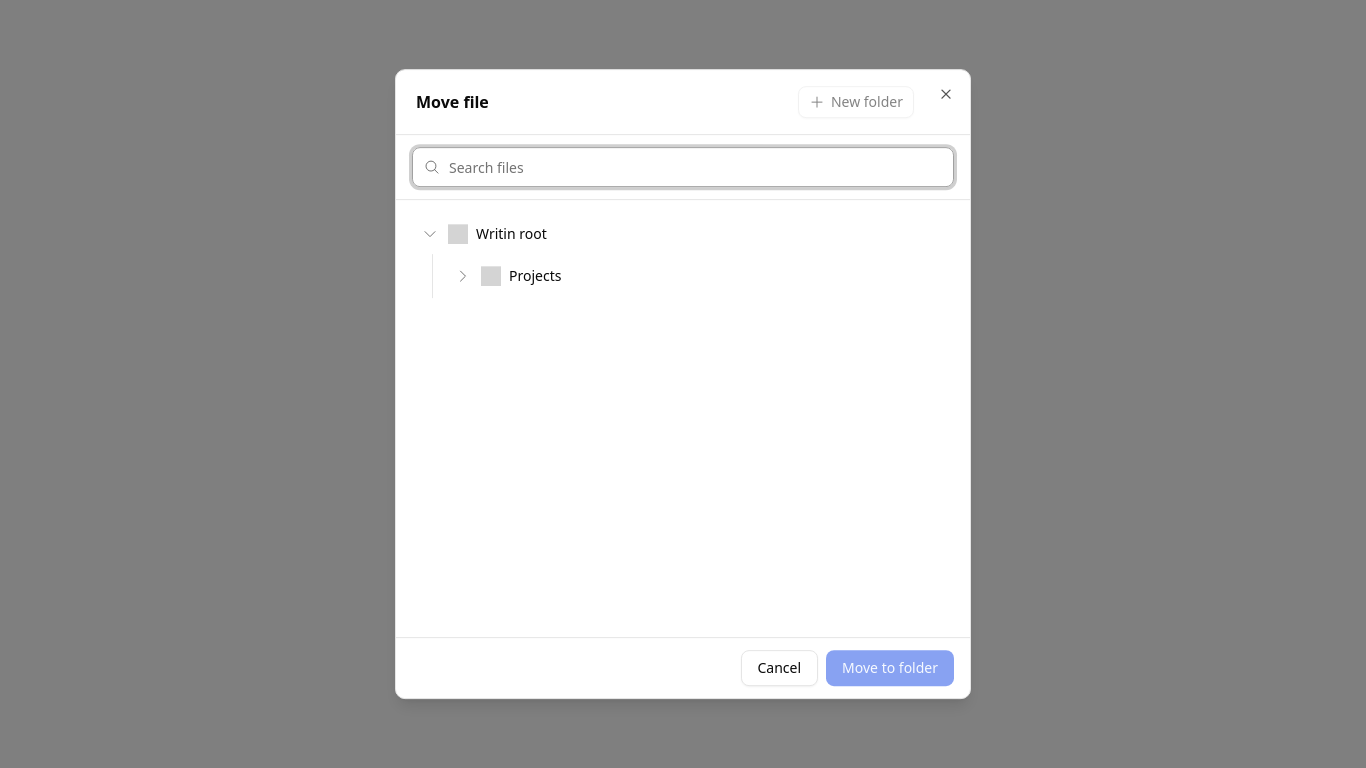
Scenario: MoveItemDialog › creates the pending folder on blur under its original parent without changing a newer selection
Click the list item "Projects": click(535, 276) [449,262,561,290]
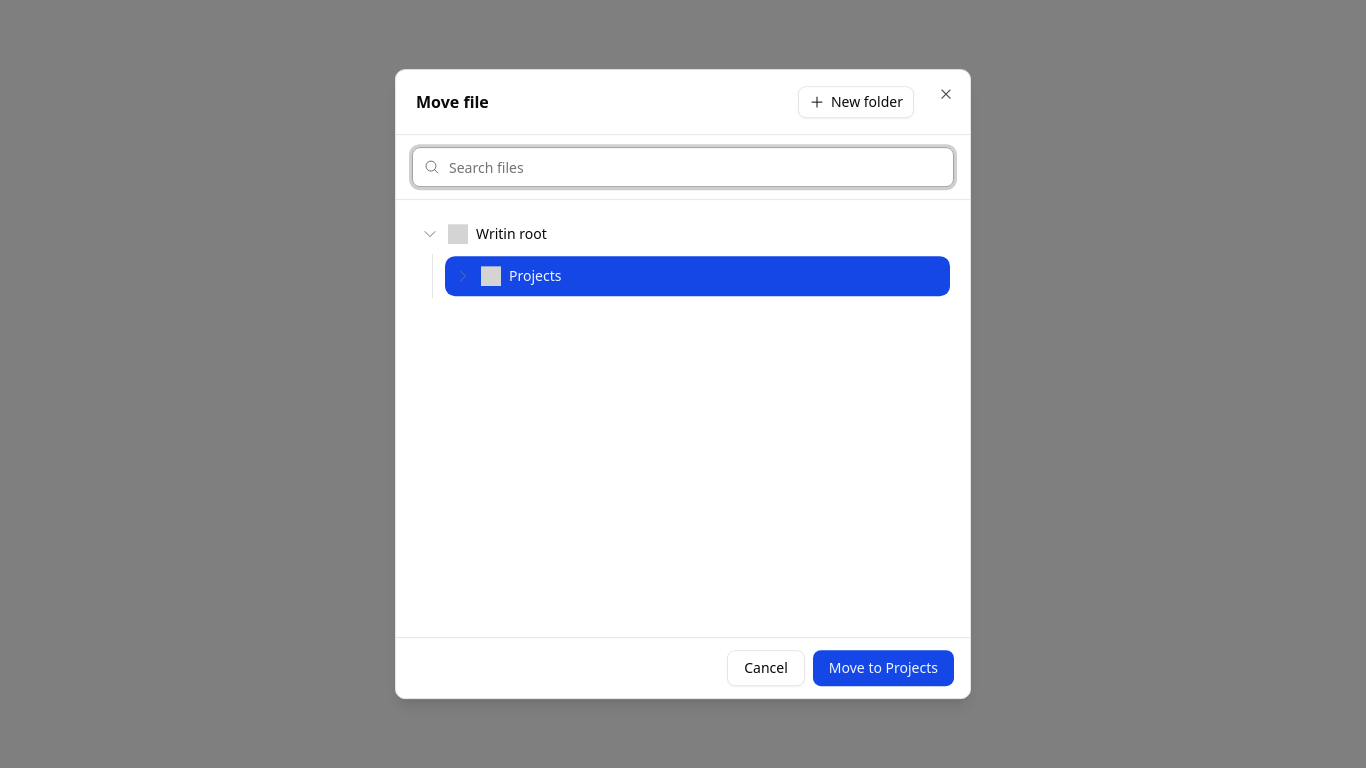
Click the button with aria-label "Create new folder": click(856, 102) [798,86,914,118]
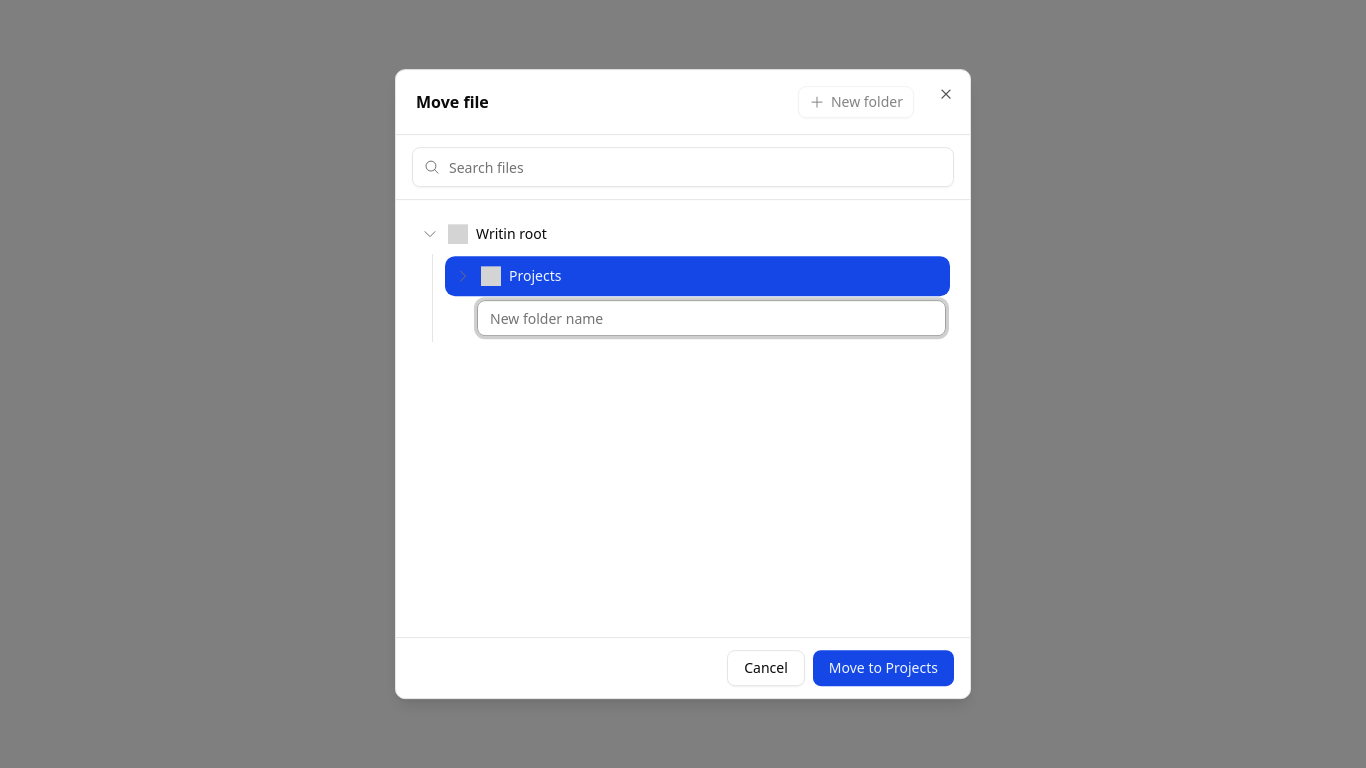
In the field labelled "New folder name": (712, 318) [477,300,946,336], type "Design"
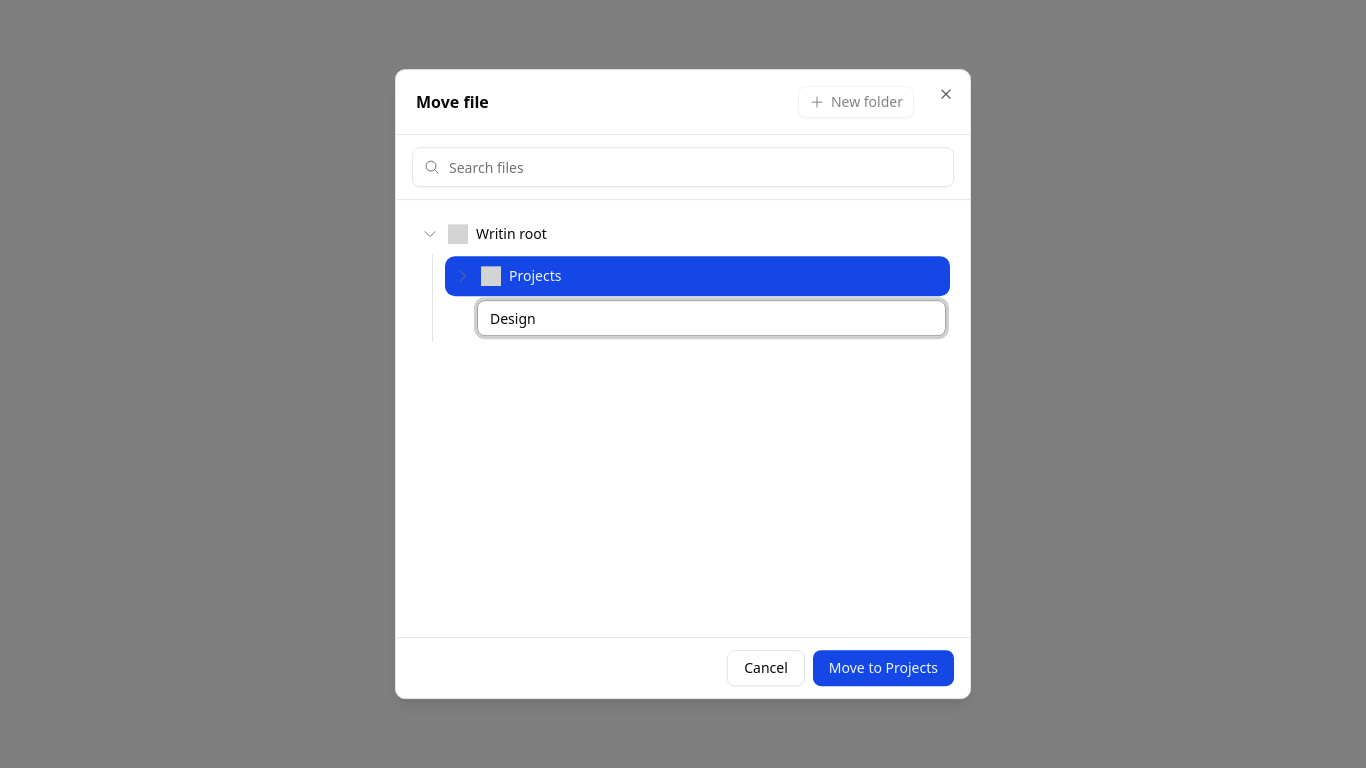
Click the button named "Expand Projects": click(463, 276) [449,262,477,290]
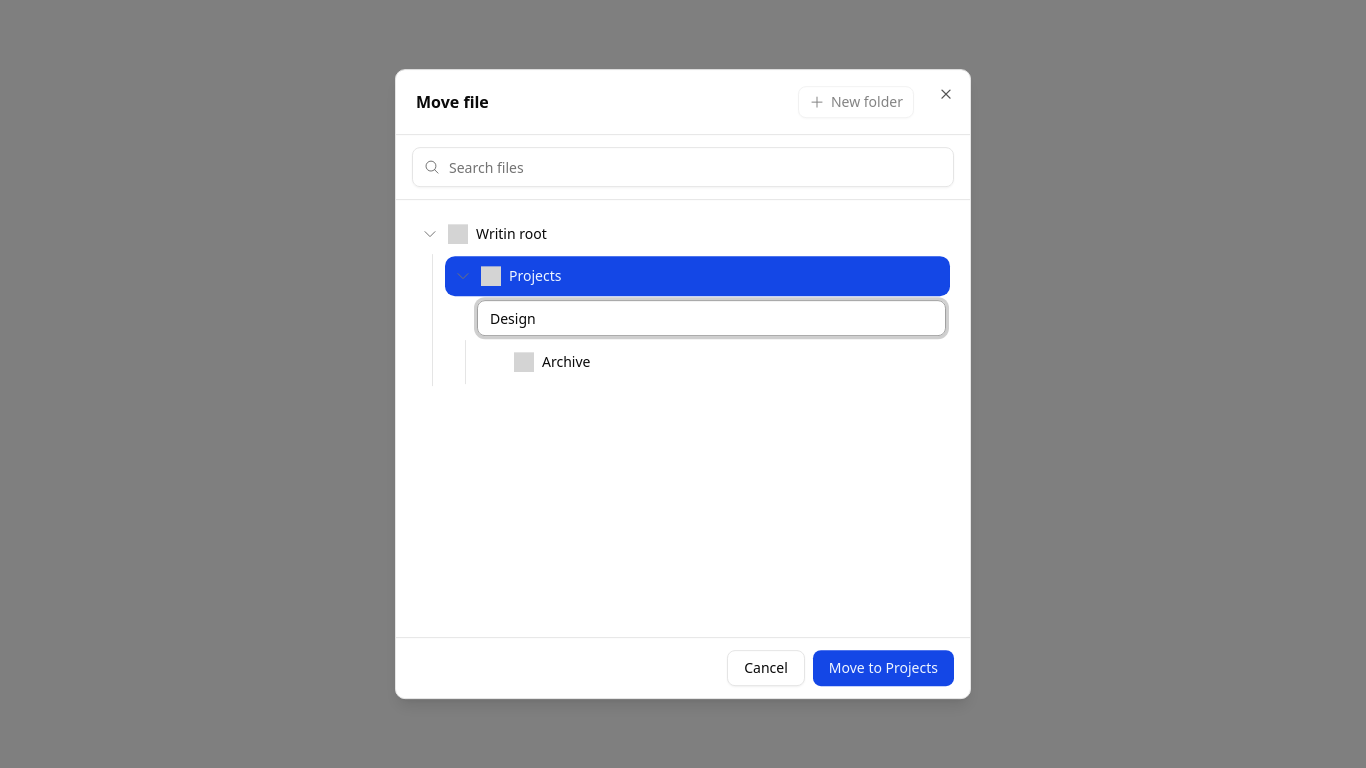
Click the list item "Archive": click(552, 362) [514,352,590,372]
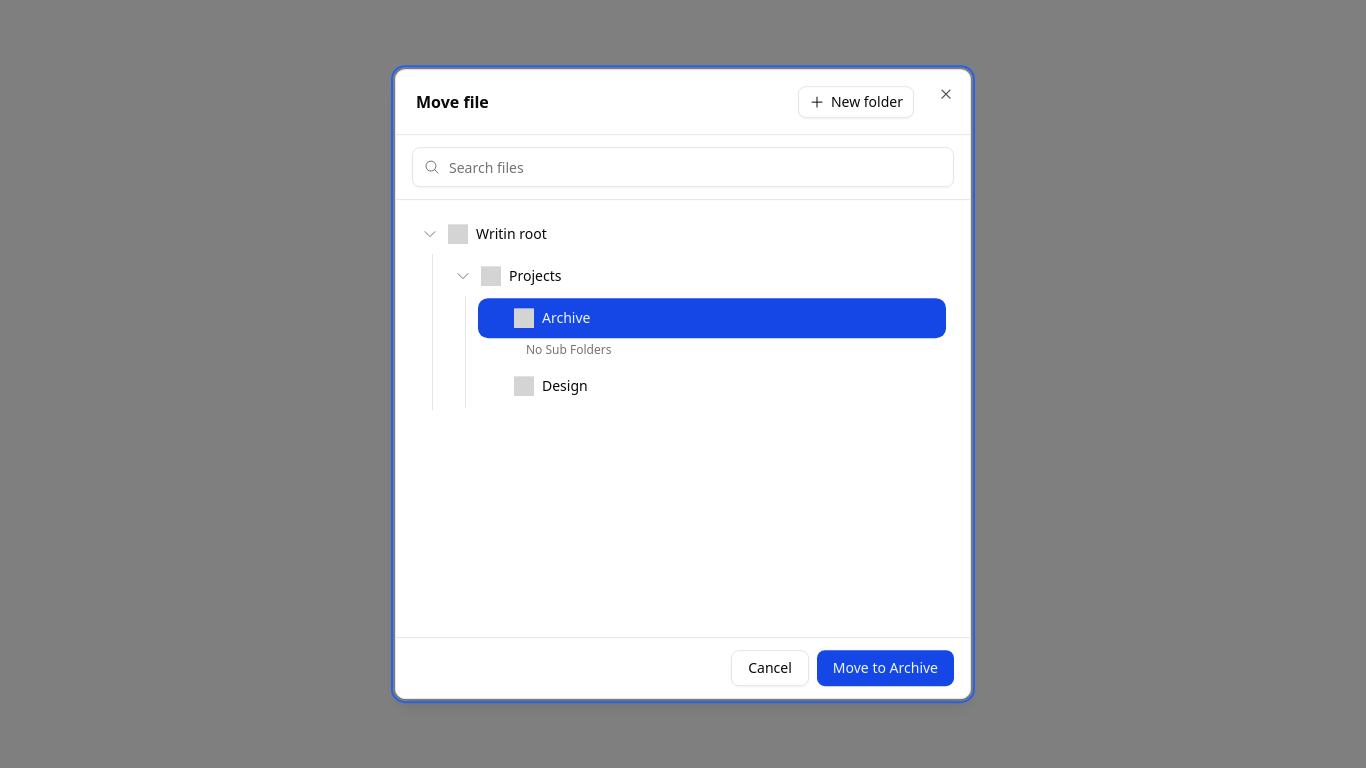
expect the button "Move to Archive" is shown: met, box [817,650,954,686]
